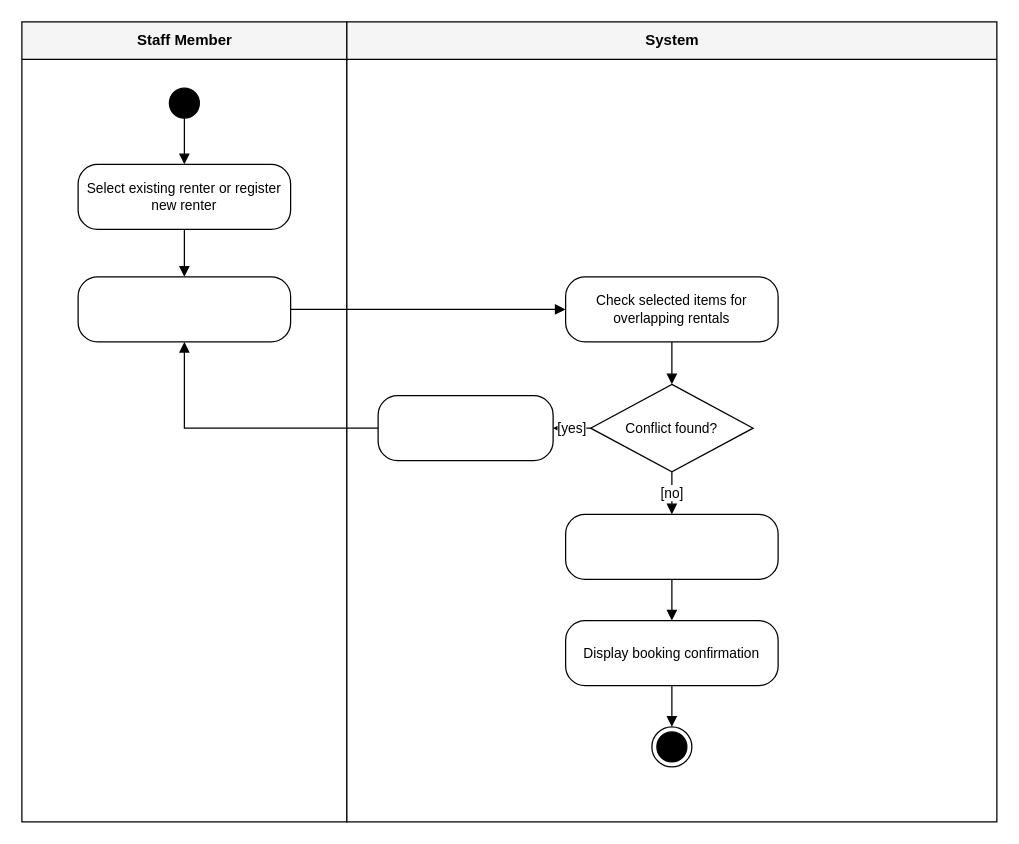
This 1019x844 diagram has some shape labels left out. The shapes that lost their labels are listed below. From the top down, each one's centre as x and y in pixels, then its label:
point (184, 309): Select item(s), start date and scheduled end
point (465, 427): Display conflict message
point (671, 546): Save rental with status Booked
